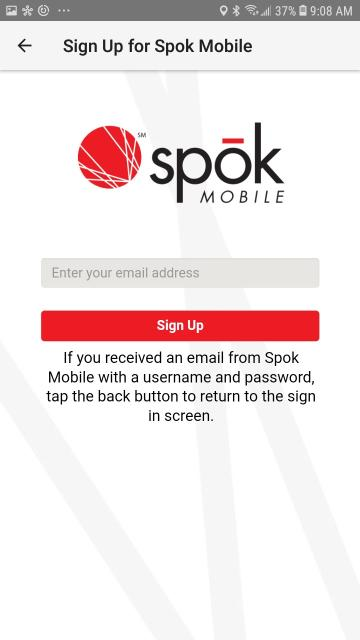BackgroundImage: (0, 70, 360, 640)
EditText: (41, 258, 319, 288)
Icon: (17, 39, 31, 53)
Image: (78, 121, 284, 202)
Text: (46, 351, 314, 422), (63, 38, 252, 56), (53, 268, 199, 280), (157, 319, 203, 333)
TextButton: (41, 310, 319, 342)
Toolbar: (0, 22, 360, 70)
UpperTaskBar: (0, 0, 359, 20)
